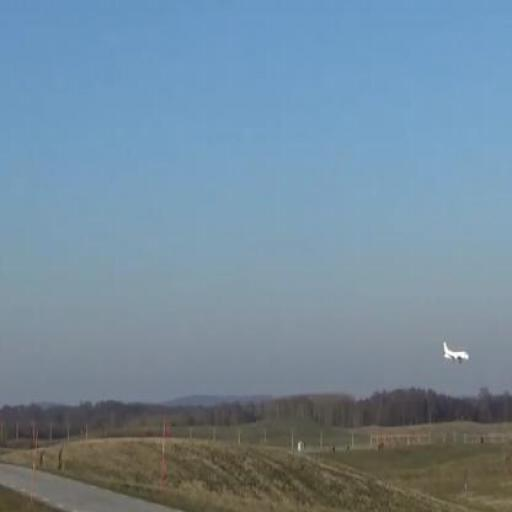aircraft: (443, 341, 470, 361)
